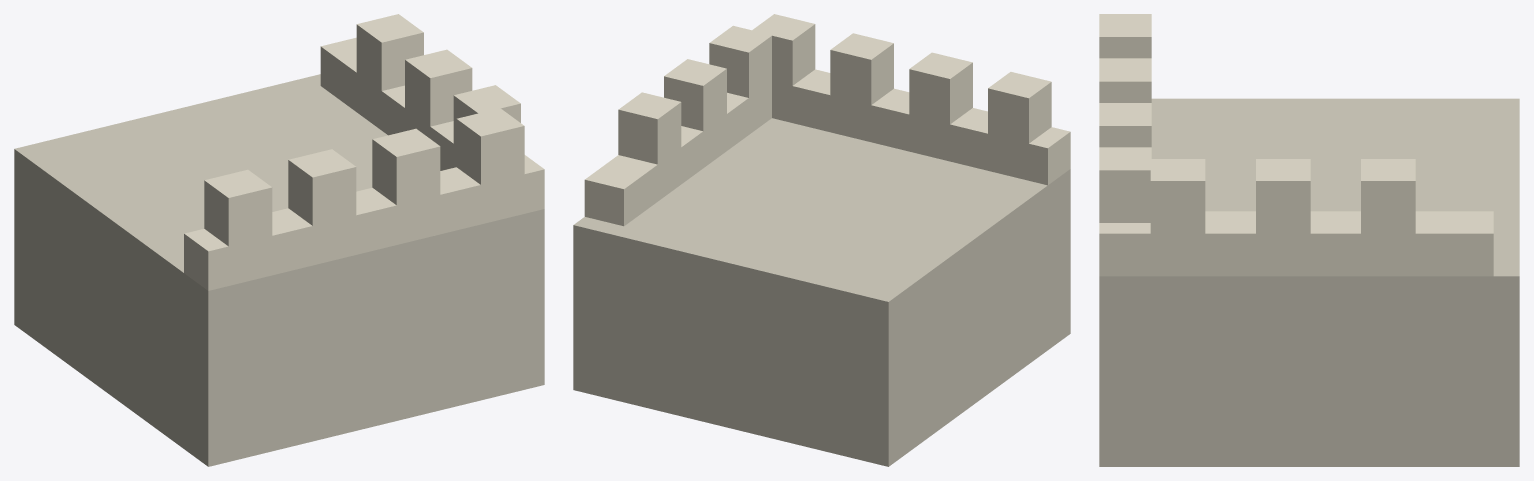
The model's file is curtain-corner-low.glb.
3 renders of one model, left to right at view 1: azimuth 30°, elevation 25°; view 2: azimuth 150°, elevation 25°; view 3: azimuth 270°, elevation 25°, orthographic. The views are drawn at different scales.
Visible parts, largest first — view 1: curtain-corner-low; view 2: curtain-corner-low; view 3: curtain-corner-low.
Boxes of the visible parts, bbox=[...] form: curtain-corner-low: bbox=[14, 14, 544, 466]; curtain-corner-low: bbox=[573, 14, 1070, 466]; curtain-corner-low: bbox=[1099, 14, 1519, 466].
Size of the model in its own units: 4 by 3 by 4.
